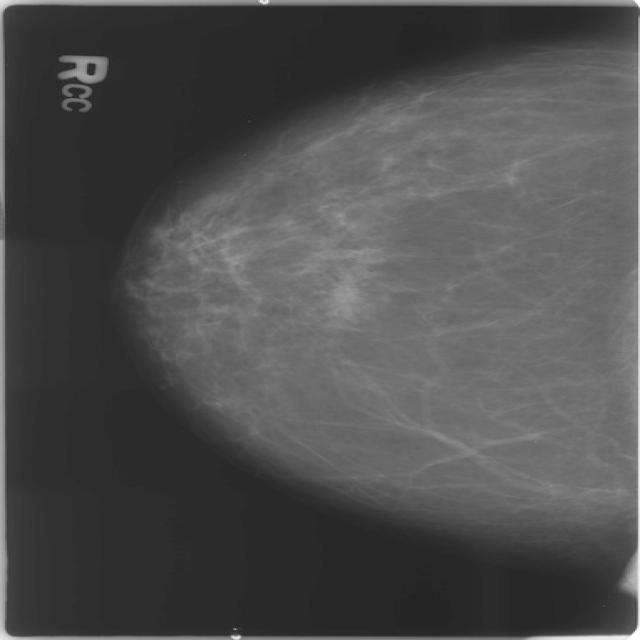tumour: (326, 272, 364, 313)
